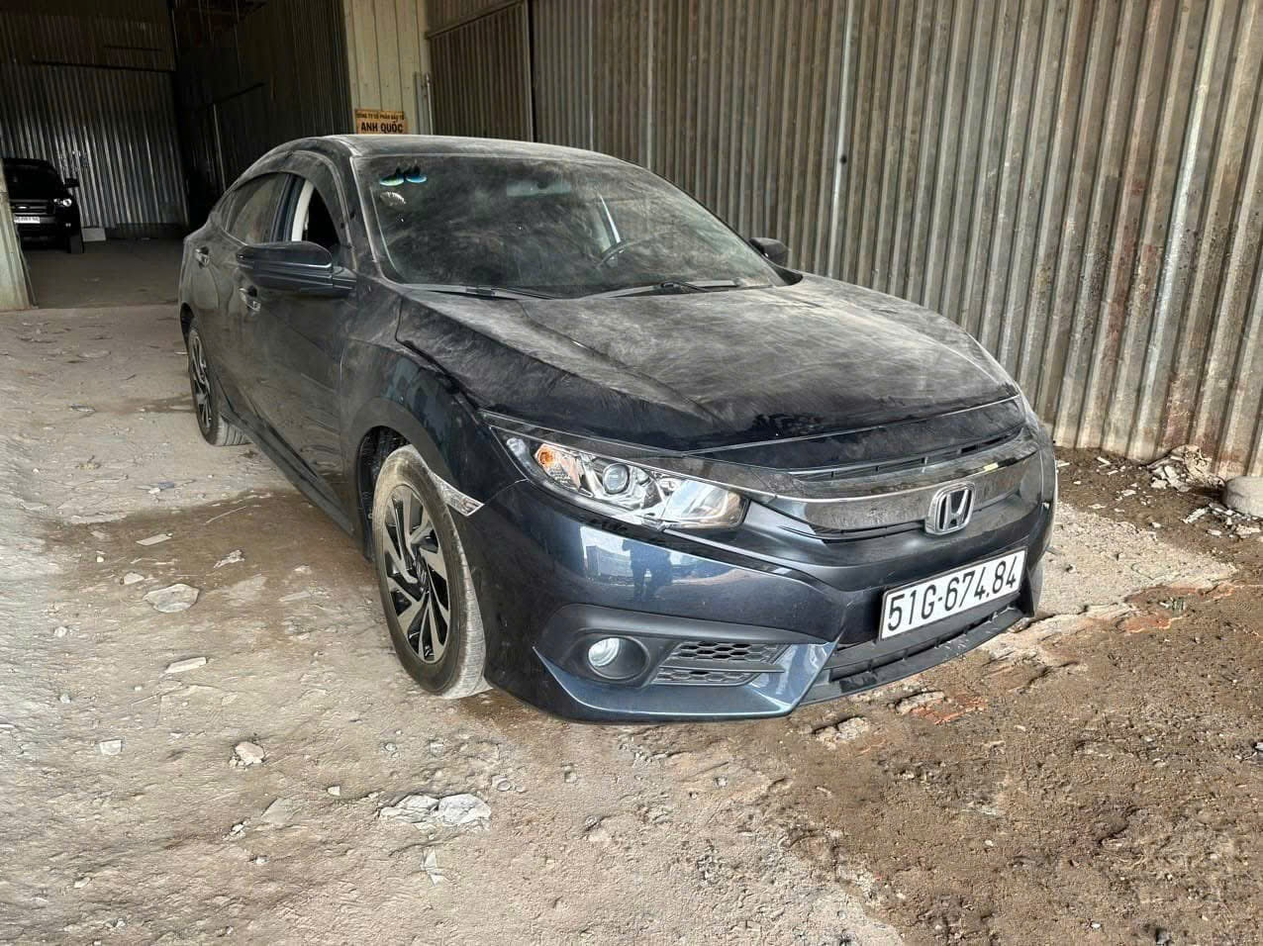Bien-so: (885, 552, 1027, 641)
